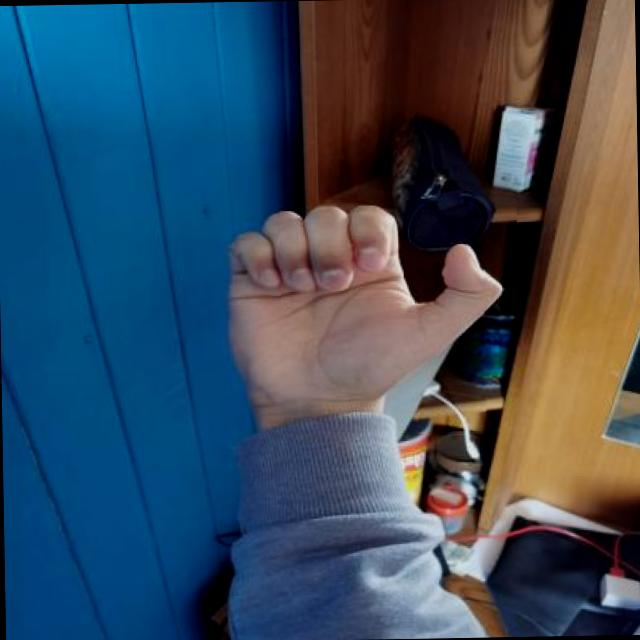E: (191, 196, 520, 438)
